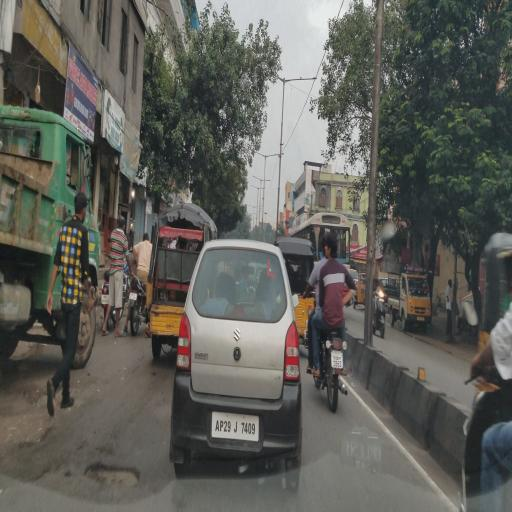street_light_0: (280, 64, 322, 88), (266, 144, 290, 165), (248, 164, 264, 184), (260, 171, 277, 188)
